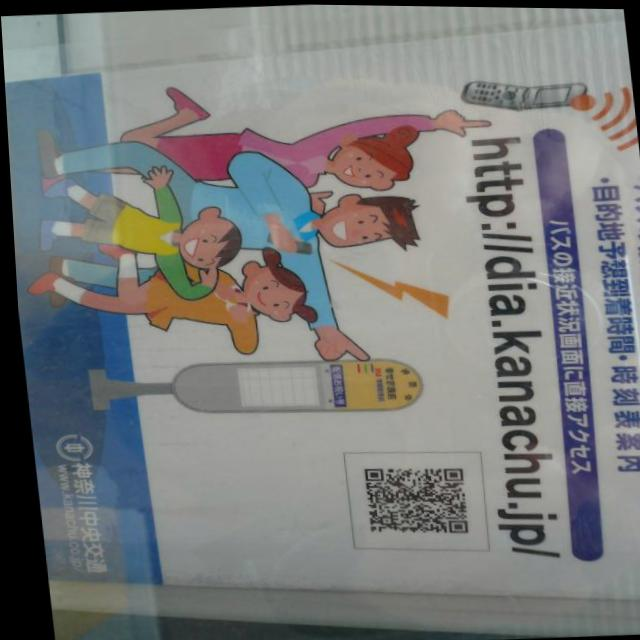qrcode: (359, 464, 463, 537)
